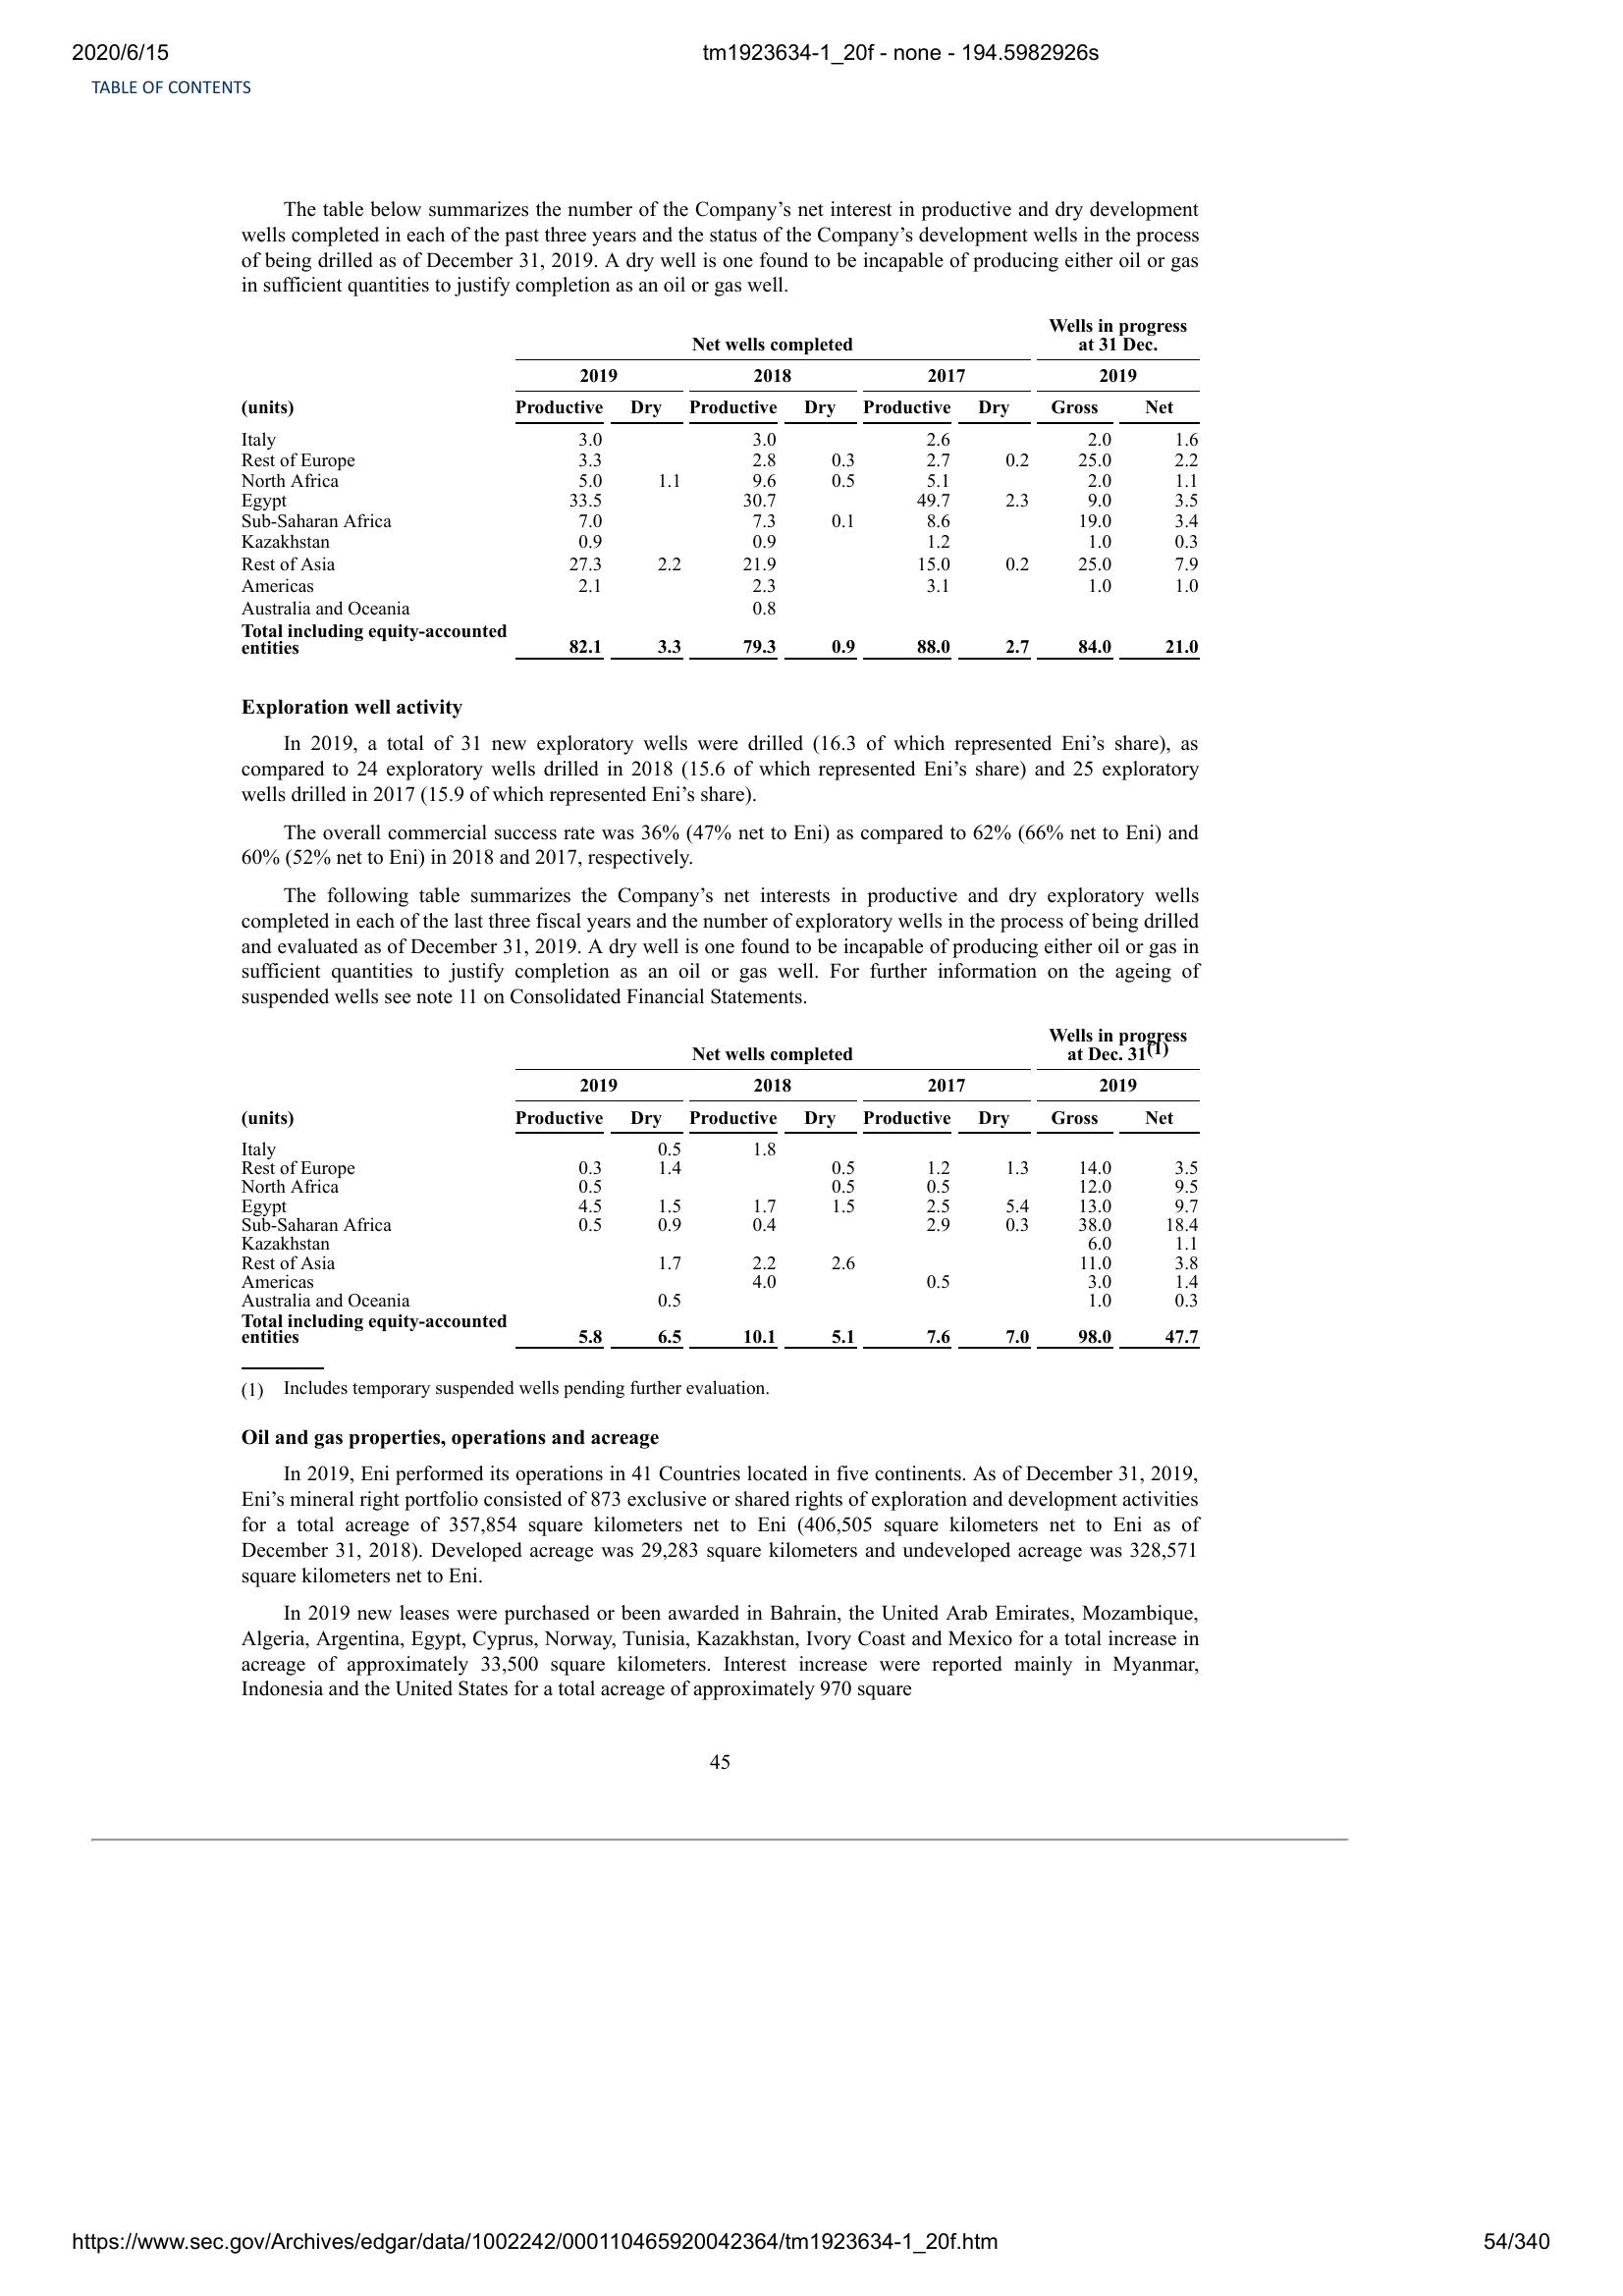table: (232, 316, 1208, 667), (232, 1016, 1212, 1352)
